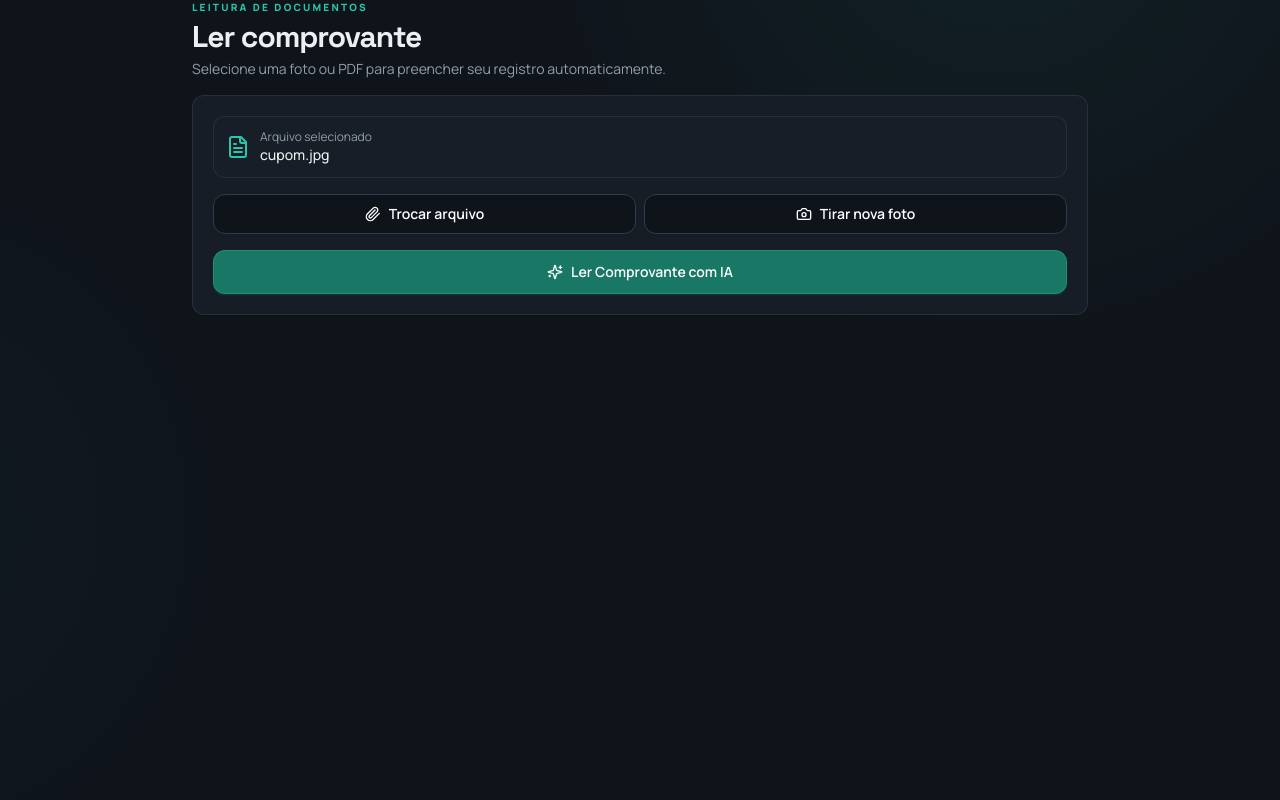
Test: ReceiptImport free external AI reader (test) › shows the non-receipt message when the free reader says the image is not a receipt
Earlier steps of the test are not shown.
Click the button "Ler Comprovante com IA".
click(640, 272)  # box top-left (213, 250), bottom-right (1067, 294)
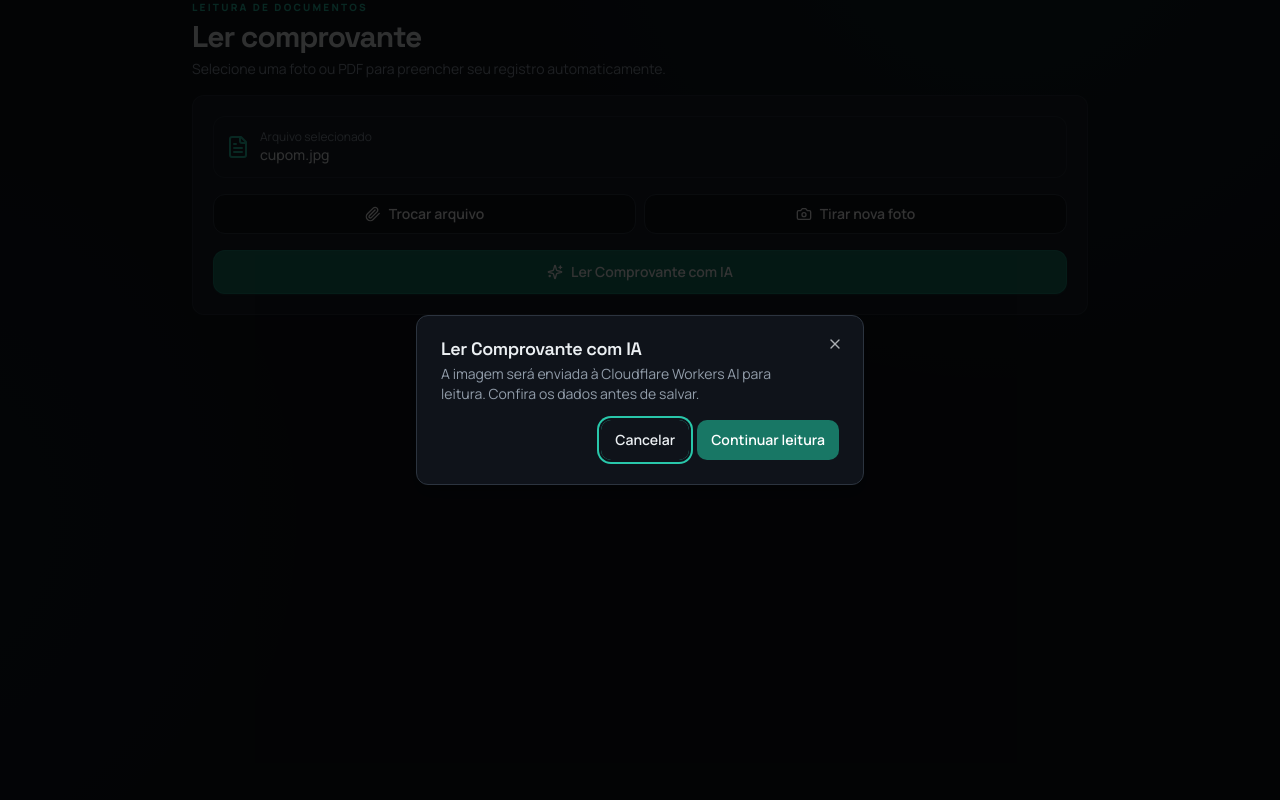
Click the button "Continuar leitura".
click(768, 440)  # box top-left (697, 420), bottom-right (839, 460)
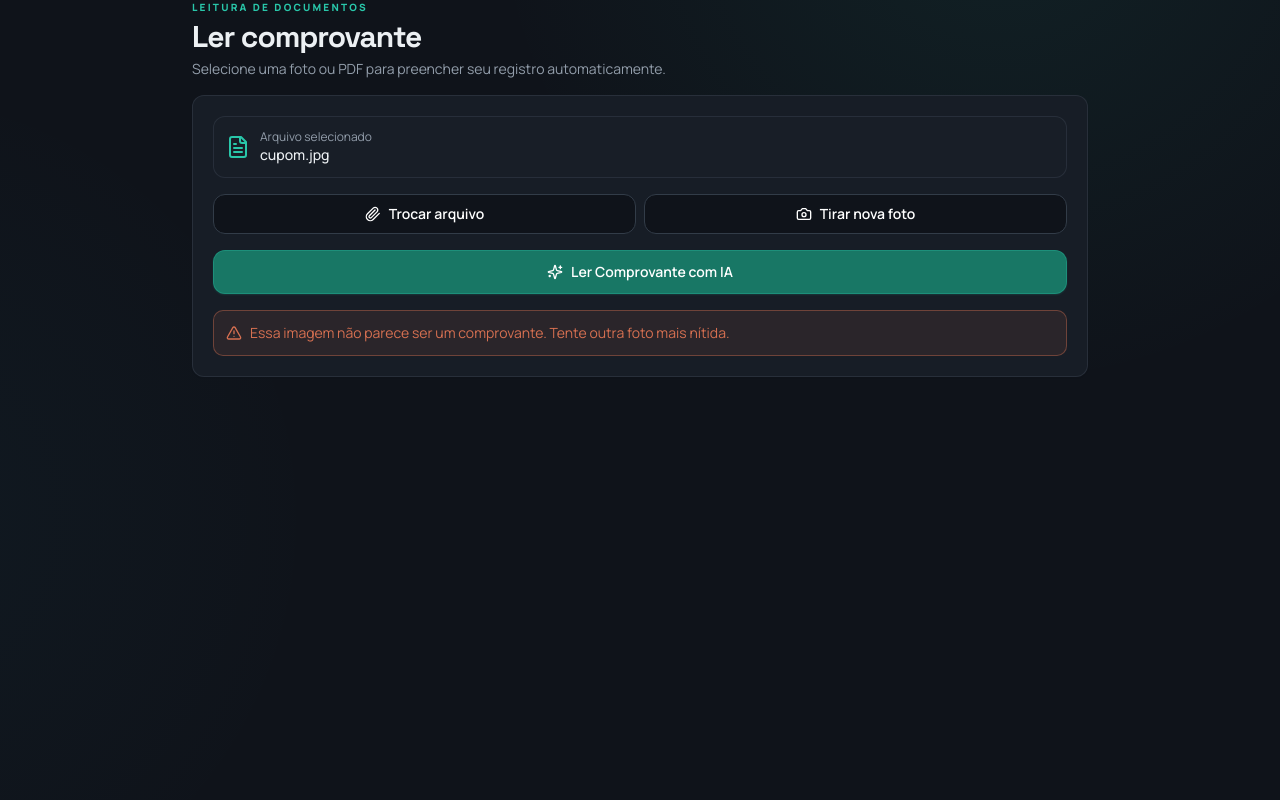
Expected: the text "Essa imagem não parece ser um comprovante. Tente outra foto mais nítida." is shown, top-left (250, 323), bottom-right (730, 342)
